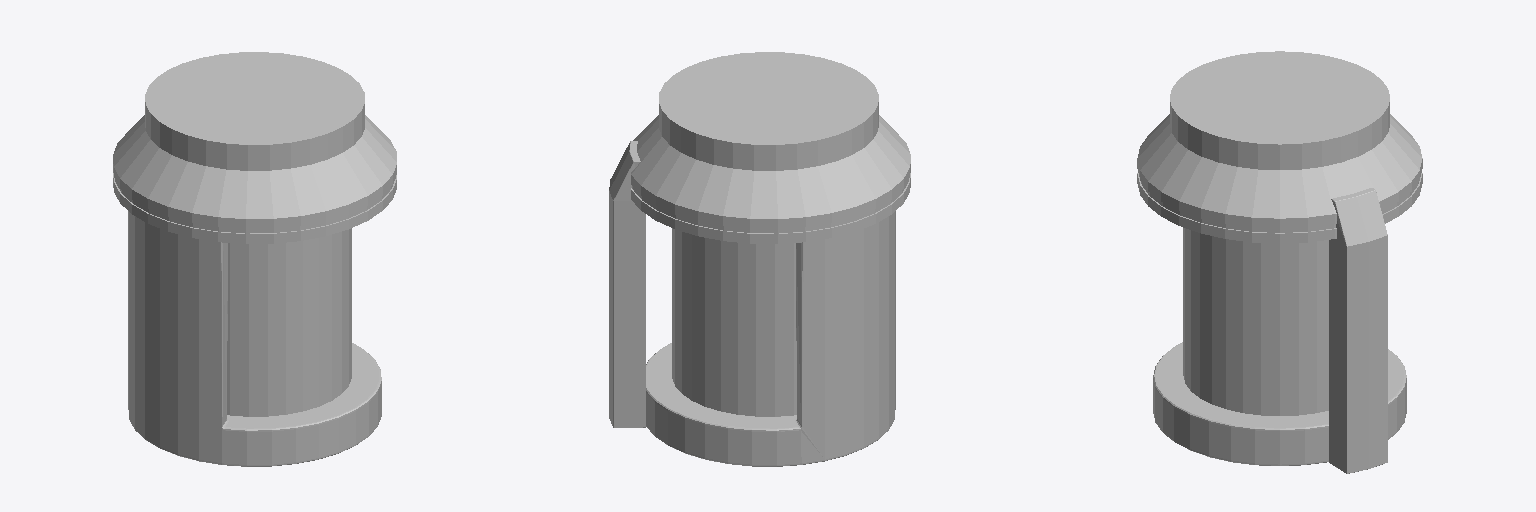
The model's file is SetA_Container_Style_11.obj.
The picture shows the model from 3 angles: view 1: azimuth 30°, elevation 25°; view 2: azimuth 150°, elevation 25°; view 3: azimuth 270°, elevation 25°; orthographic projection.
Visible parts, largest first — view 1: SetA_Container_Style_11; view 2: SetA_Container_Style_11; view 3: SetA_Container_Style_11.
Boxes of the visible parts, <box> form: SetA_Container_Style_11: <box>113,52,396,466</box>; SetA_Container_Style_11: <box>609,52,910,466</box>; SetA_Container_Style_11: <box>1137,51,1422,473</box>.
Bounding box in the file's own units: 0.1976 × 0.2394 × 0.1963.